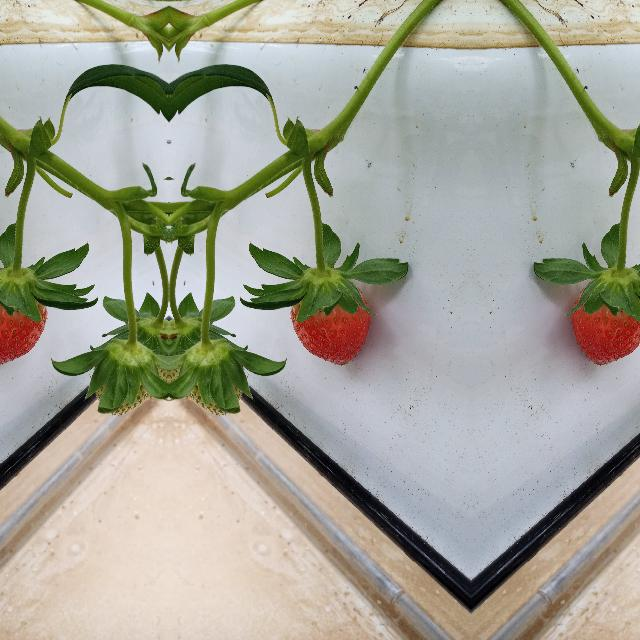Health_100: (288, 279, 369, 365), (571, 279, 640, 365), (0, 279, 47, 365)
